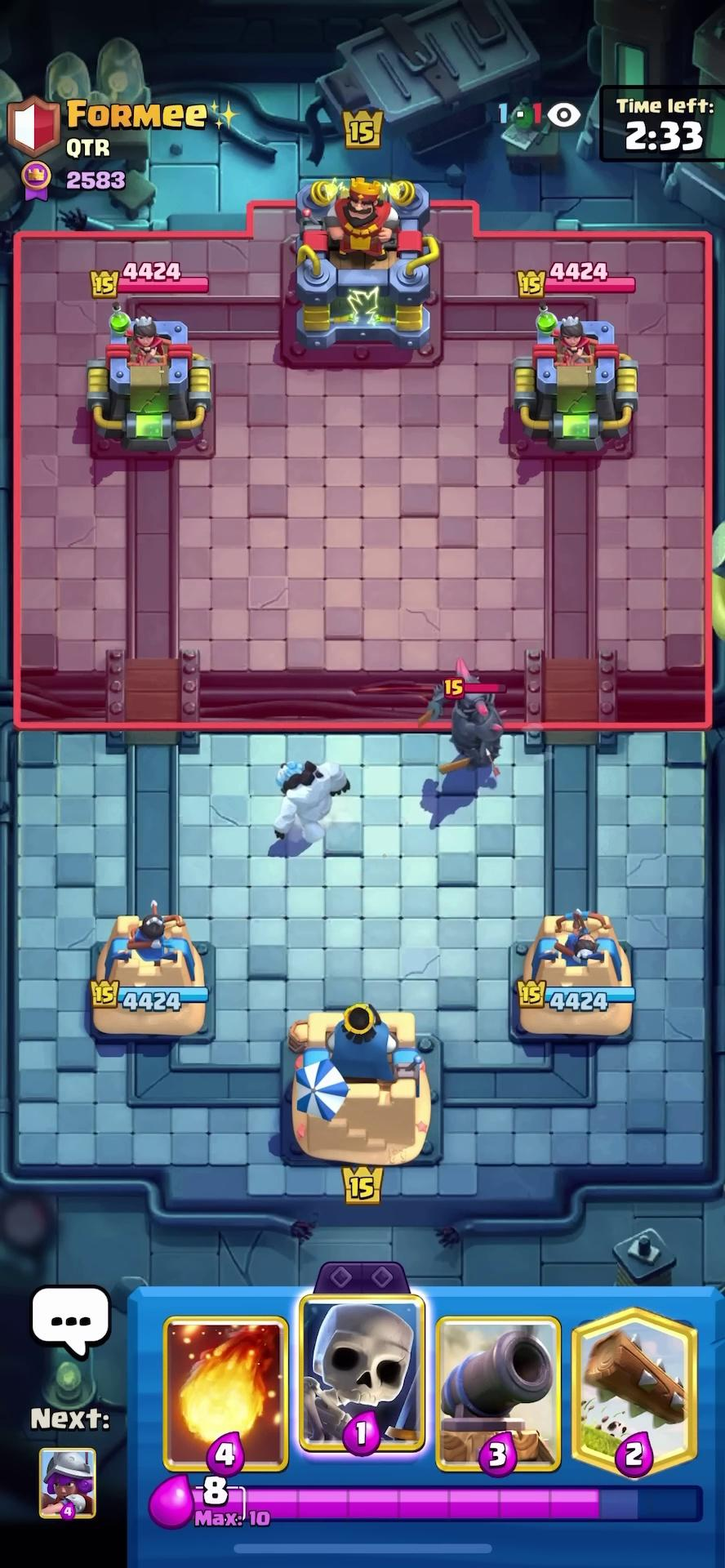ice_golem: (263, 737, 351, 851)
